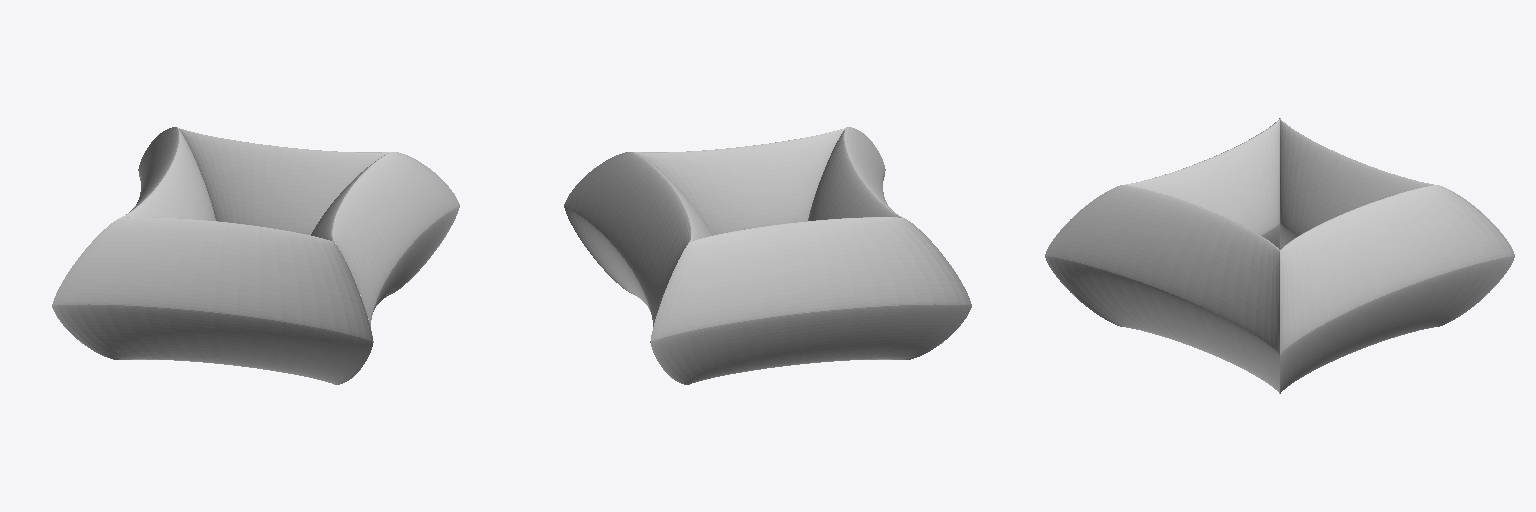
The picture shows the model from 3 angles: view 1: azimuth 30°, elevation 25°; view 2: azimuth 150°, elevation 25°; view 3: azimuth 270°, elevation 25°; orthographic projection.
Visible parts, largest first — view 1: SuperShapesMesh; view 2: SuperShapesMesh; view 3: SuperShapesMesh.
Part boxes in pixels (left/top/right/bottom): SuperShapesMesh: left=52, top=127, right=459, bottom=384; SuperShapesMesh: left=564, top=127, right=971, bottom=384; SuperShapesMesh: left=1045, top=118, right=1514, bottom=393.
Bounding box in the file's own units: 12 × 4 × 11.98.